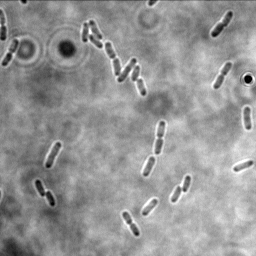Dividing: (209, 10, 234, 39), (211, 60, 233, 90), (104, 40, 122, 76), (0, 37, 20, 69), (119, 209, 141, 238), (153, 120, 167, 156), (0, 7, 9, 42), (33, 177, 47, 198), (45, 190, 57, 208)
Rod: (42, 141, 63, 170), (116, 57, 138, 84), (139, 196, 160, 218), (140, 154, 157, 179), (87, 18, 105, 40), (231, 158, 255, 173), (169, 183, 183, 204), (242, 105, 253, 131), (88, 33, 104, 50), (180, 174, 193, 194), (135, 77, 148, 97), (80, 20, 90, 44), (131, 63, 141, 83)
